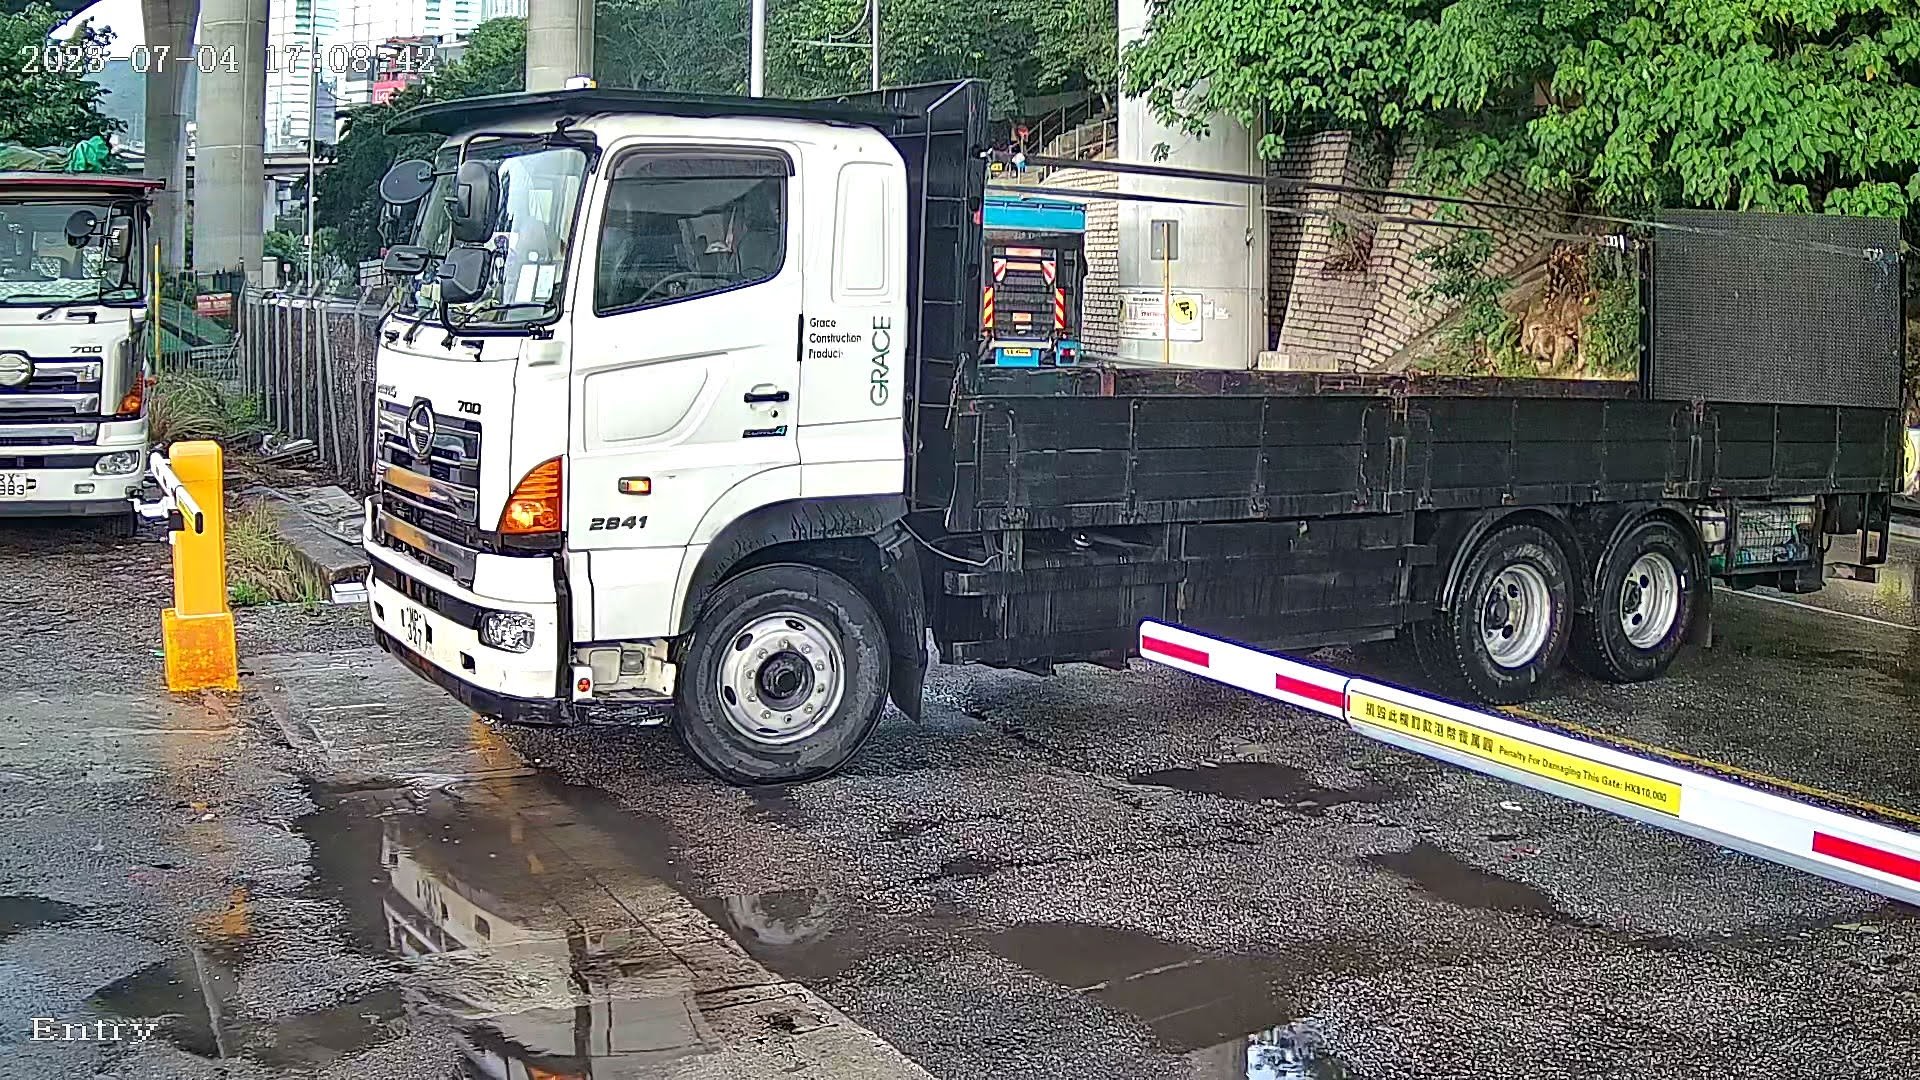truck: (331, 94, 1920, 785)
